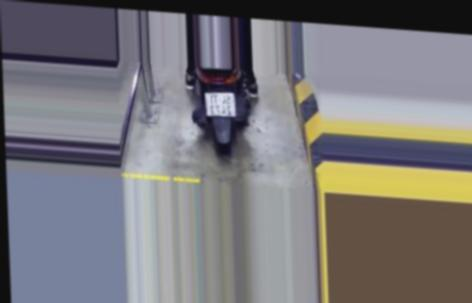License_Plate: (205, 90, 238, 119)
